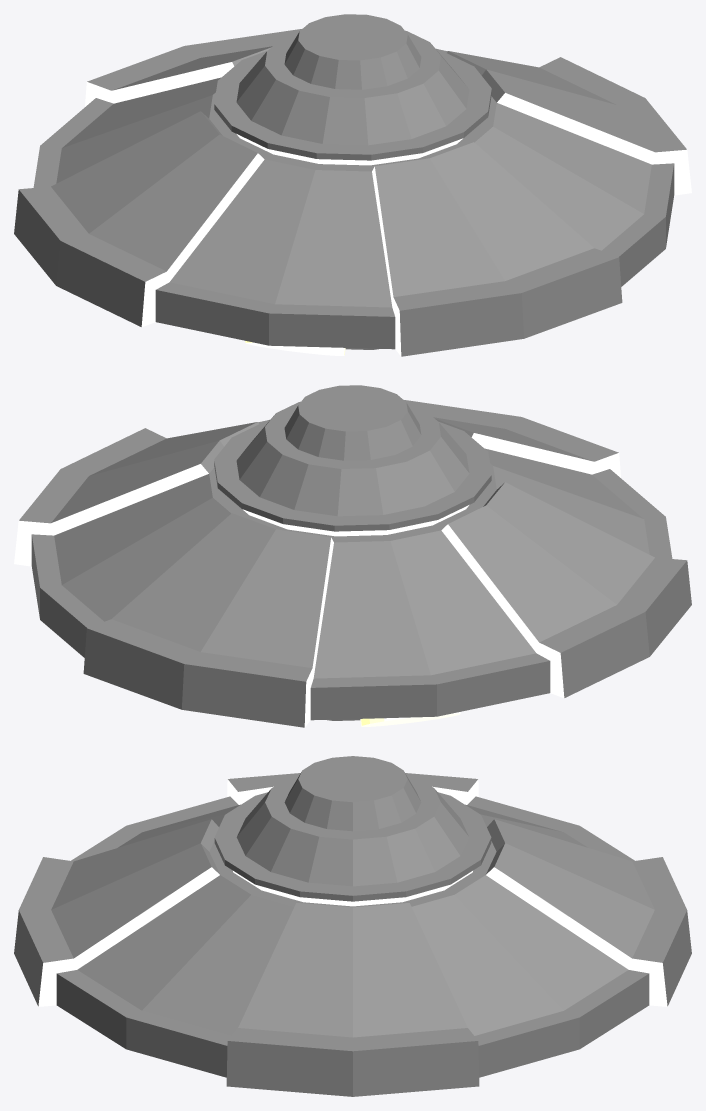
Rendered from Ovni.fbx.
The picture shows the model from 3 angles, top to bottom: view 1: azimuth 30°, elevation 25°; view 2: azimuth 150°, elevation 25°; view 3: azimuth 270°, elevation 25°; orthographic projection.
Parts seen in each view (by area): view 1: Ovni, OvniBase; view 2: Ovni, OvniBase; view 3: Ovni.
Part boxes in pixels (left/top/right/bottom): Ovni: left=14, top=14, right=691, bottom=356; OvniBase: left=245, top=341, right=345, bottom=355; Ovni: left=14, top=385, right=691, bottom=727; OvniBase: left=360, top=712, right=460, bottom=726; Ovni: left=14, top=756, right=691, bottom=1096.
Size of the model in its own units: 212 by 90 by 211.
